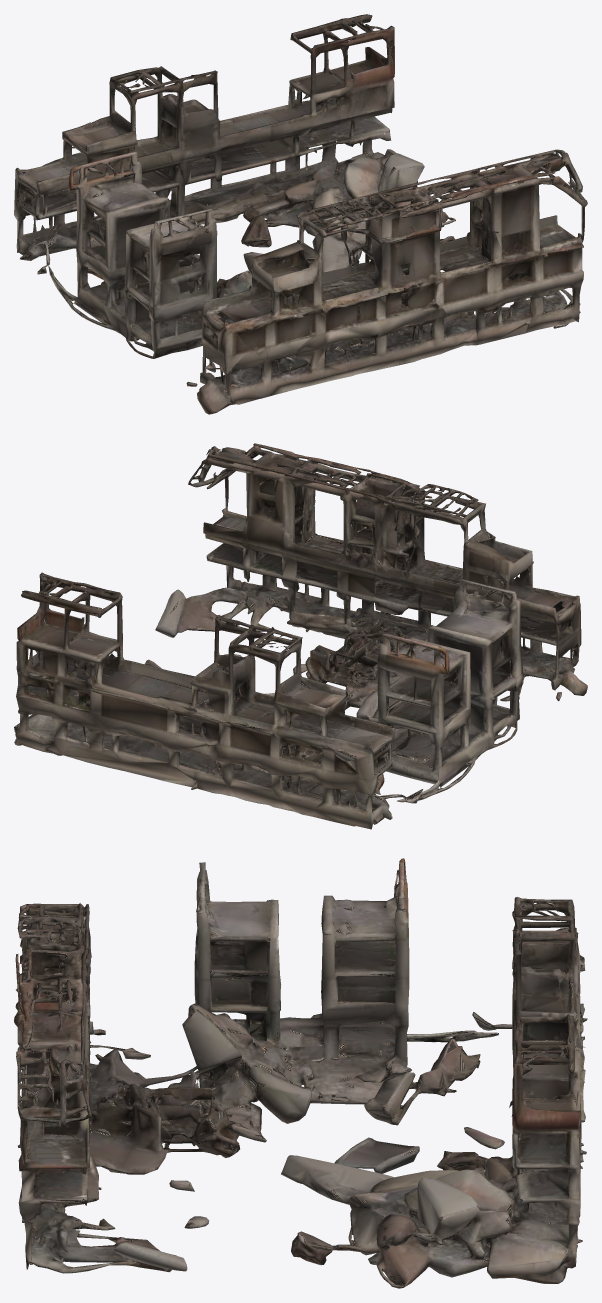
File: ruin-a.glb
The picture shows the model from 3 angles, top to bottom: view 1: azimuth 30°, elevation 25°; view 2: azimuth 150°, elevation 25°; view 3: azimuth 270°, elevation 25°; orthographic projection. The views are drawn at different scales.
Visible parts, largest first — view 1: scan-0; view 2: scan-0; view 3: scan-0.
Part boxes in pixels (bbox=[...]): scan-0: bbox=[14, 14, 587, 414]; scan-0: bbox=[14, 443, 587, 829]; scan-0: bbox=[14, 858, 587, 1288].
Size of the model in its own units: 1.99 by 0.8491 by 1.97.
Materials: 1 (1 with a texture image).
